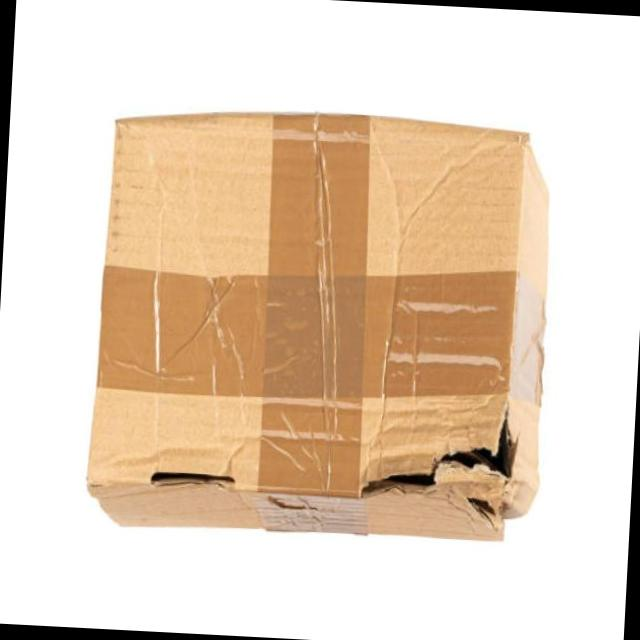box: (83, 111, 551, 544)
crushed: (498, 468, 540, 542)
tear: (359, 405, 518, 502), (151, 468, 235, 487), (467, 494, 495, 525)
